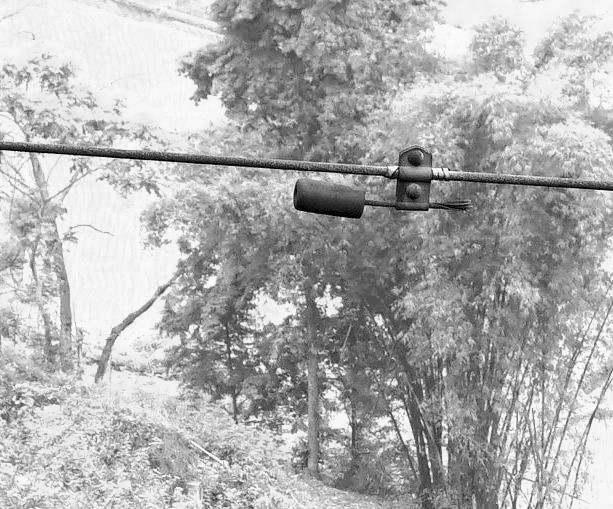Damage of shockproof hammer: (283, 134, 488, 229)
